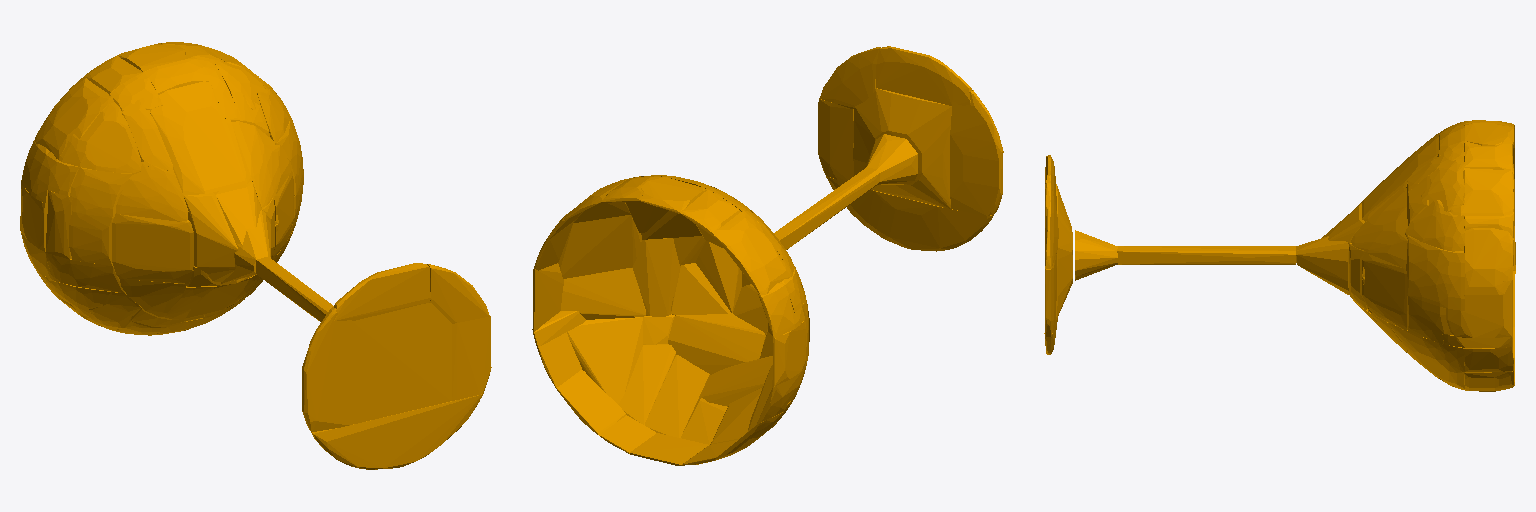
robot.urdf — glass-new:
<?xml version="1.0" ?>
<robot name="glass-new">
  <link name="baseLink">
    <contact>
      <lateral_friction value="1.0"/>
      <inertia_scaling value="3.0"/>
    </contact>
    <inertial>
      <origin rpy="0 0 0" xyz="0.000 0.000 0.000"/>
       <mass value=".1"/>
       <inertia ixx="1" ixy="0.0" ixz="0.0" iyy="1" iyz="0.0" izz="1"/>
    </inertial>
    <visual>
      <origin rpy="0 0 0" xyz="0 0 0"/>
      <geometry>
        <mesh filename="glass/glass-new_10.obj" scale="1.0 1.0 1.0"/>
      </geometry>
    </visual>
    <collision>
      <origin rpy="0 0 0" xyz="0 0 0"/>
      <geometry>
        <mesh filename="../collision/glass/glass-new_10.obj" scale="1.0 1.0 1.0"/>
      </geometry>
    </collision>
  </link>
</robot>
        

--- Render facts (derived) ---
The picture shows the robot from 3 angles, left to right: view 1: azimuth 30°, elevation 25°; view 2: azimuth 150°, elevation 25°; view 3: azimuth 270°, elevation 25°; orthographic projection.
Robot: glass-new — 1 links, 0 joints (none); root link baseLink; default pose: all joints at 0.
Visible links, largest first — view 1: baseLink; view 2: baseLink; view 3: baseLink.
Boxes of the visible links, <box> form: baseLink: <box>20,42,491,469</box>; baseLink: <box>532,46,1003,465</box>; baseLink: <box>1044,120,1515,391</box>.
Bounding box of the posed robot: 0.0992 × 0.1736 × 0.0992 m (x, y, z).
1 mesh visuals loaded from 1 distinct referenced files (1 OBJ).